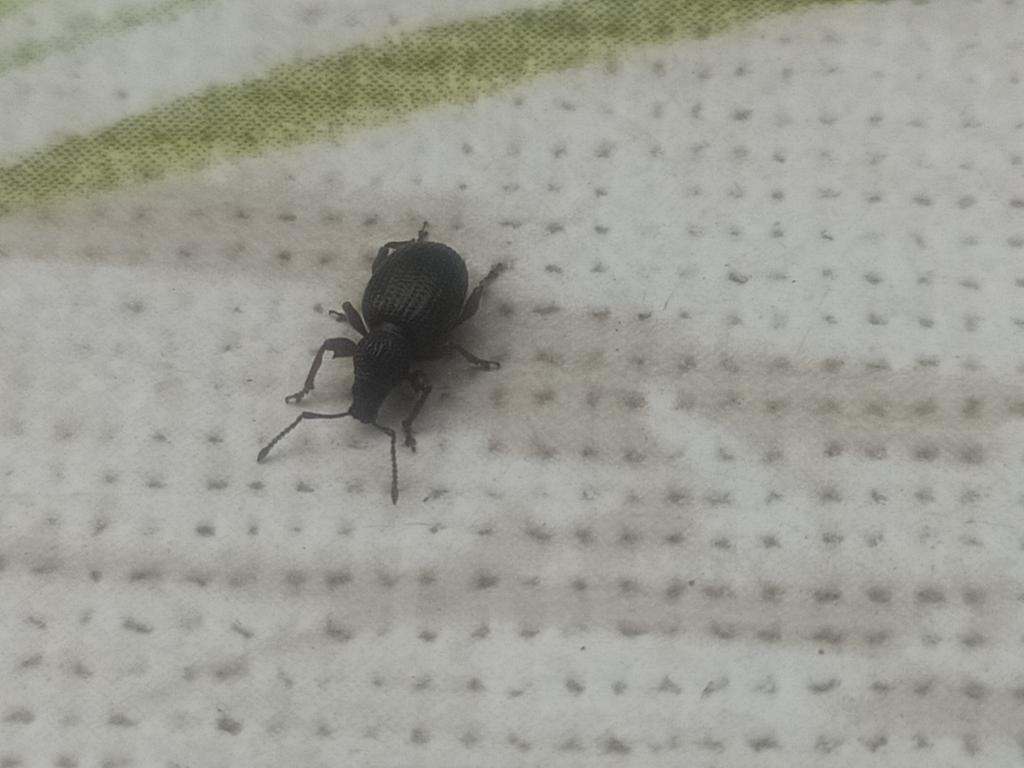weevils: (224, 203, 552, 530)
